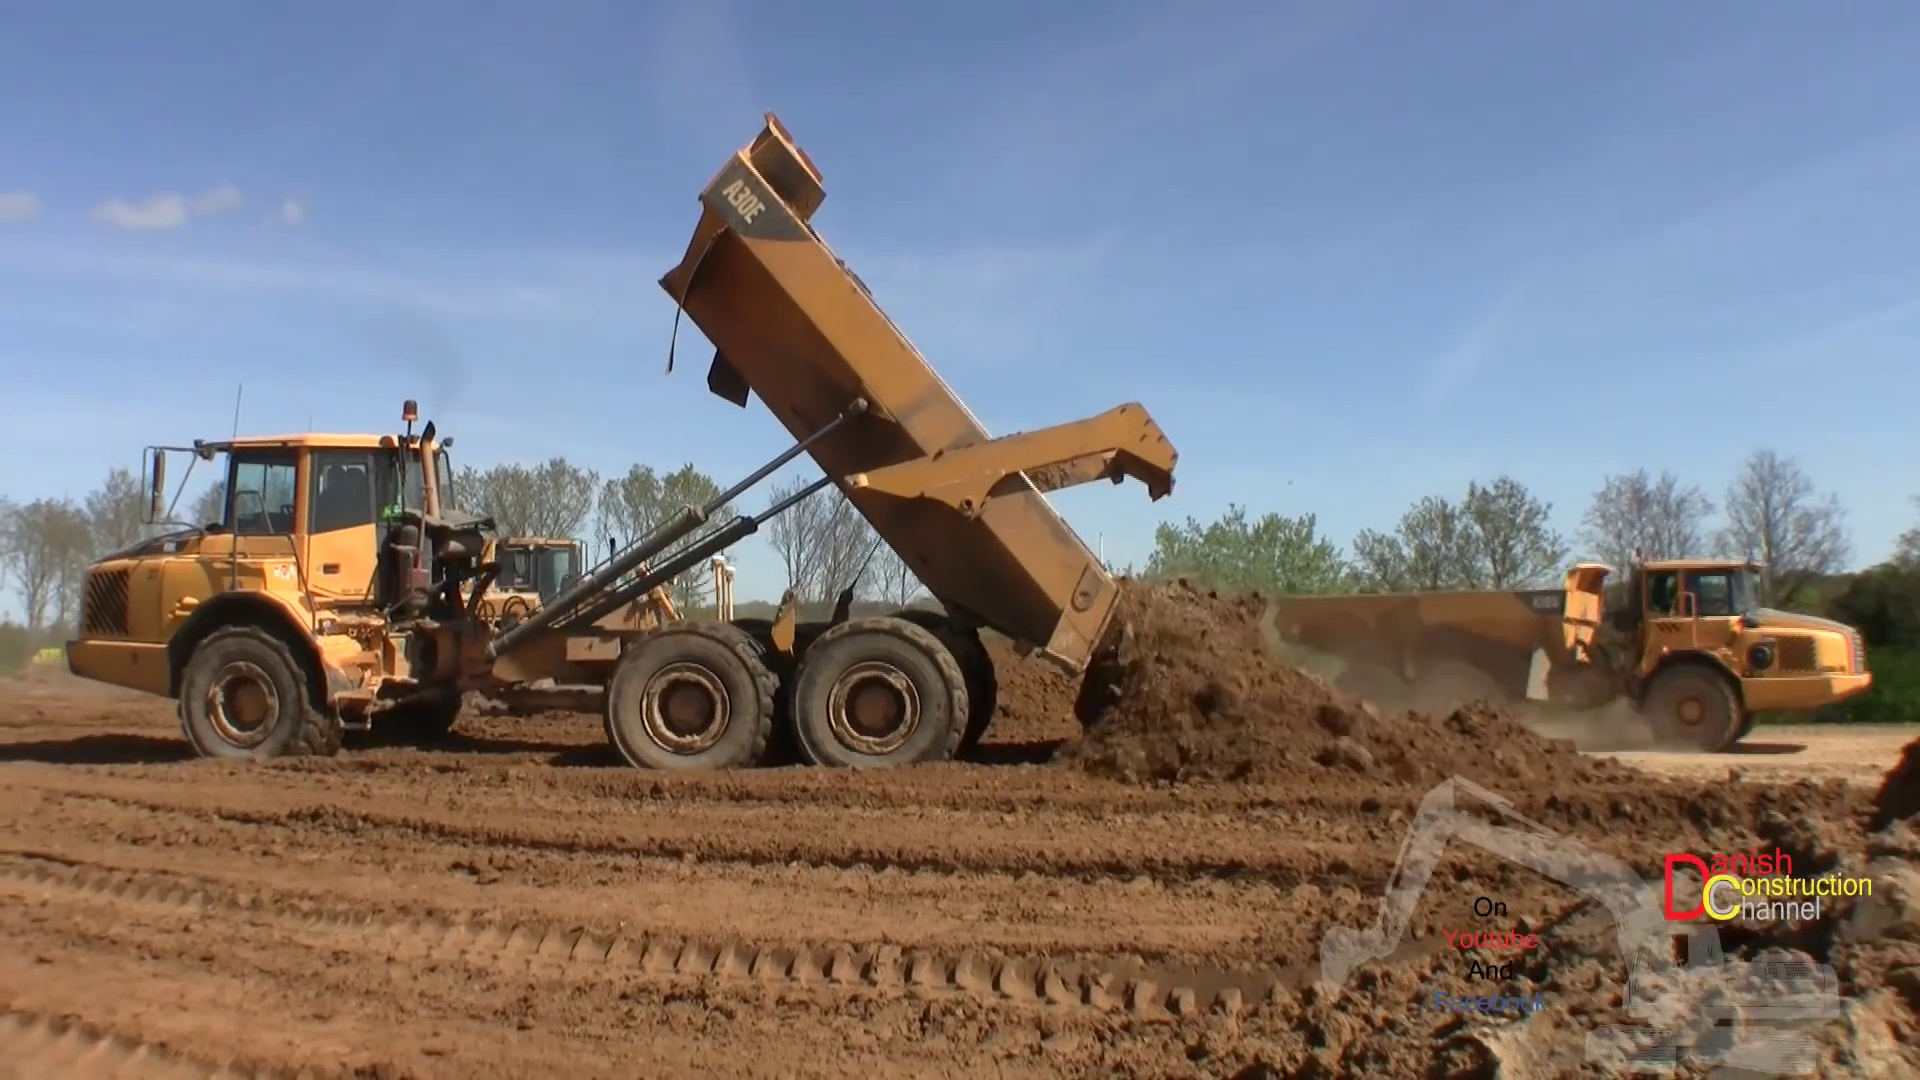truck: (70, 98, 1180, 767), (1279, 555, 1875, 741)
